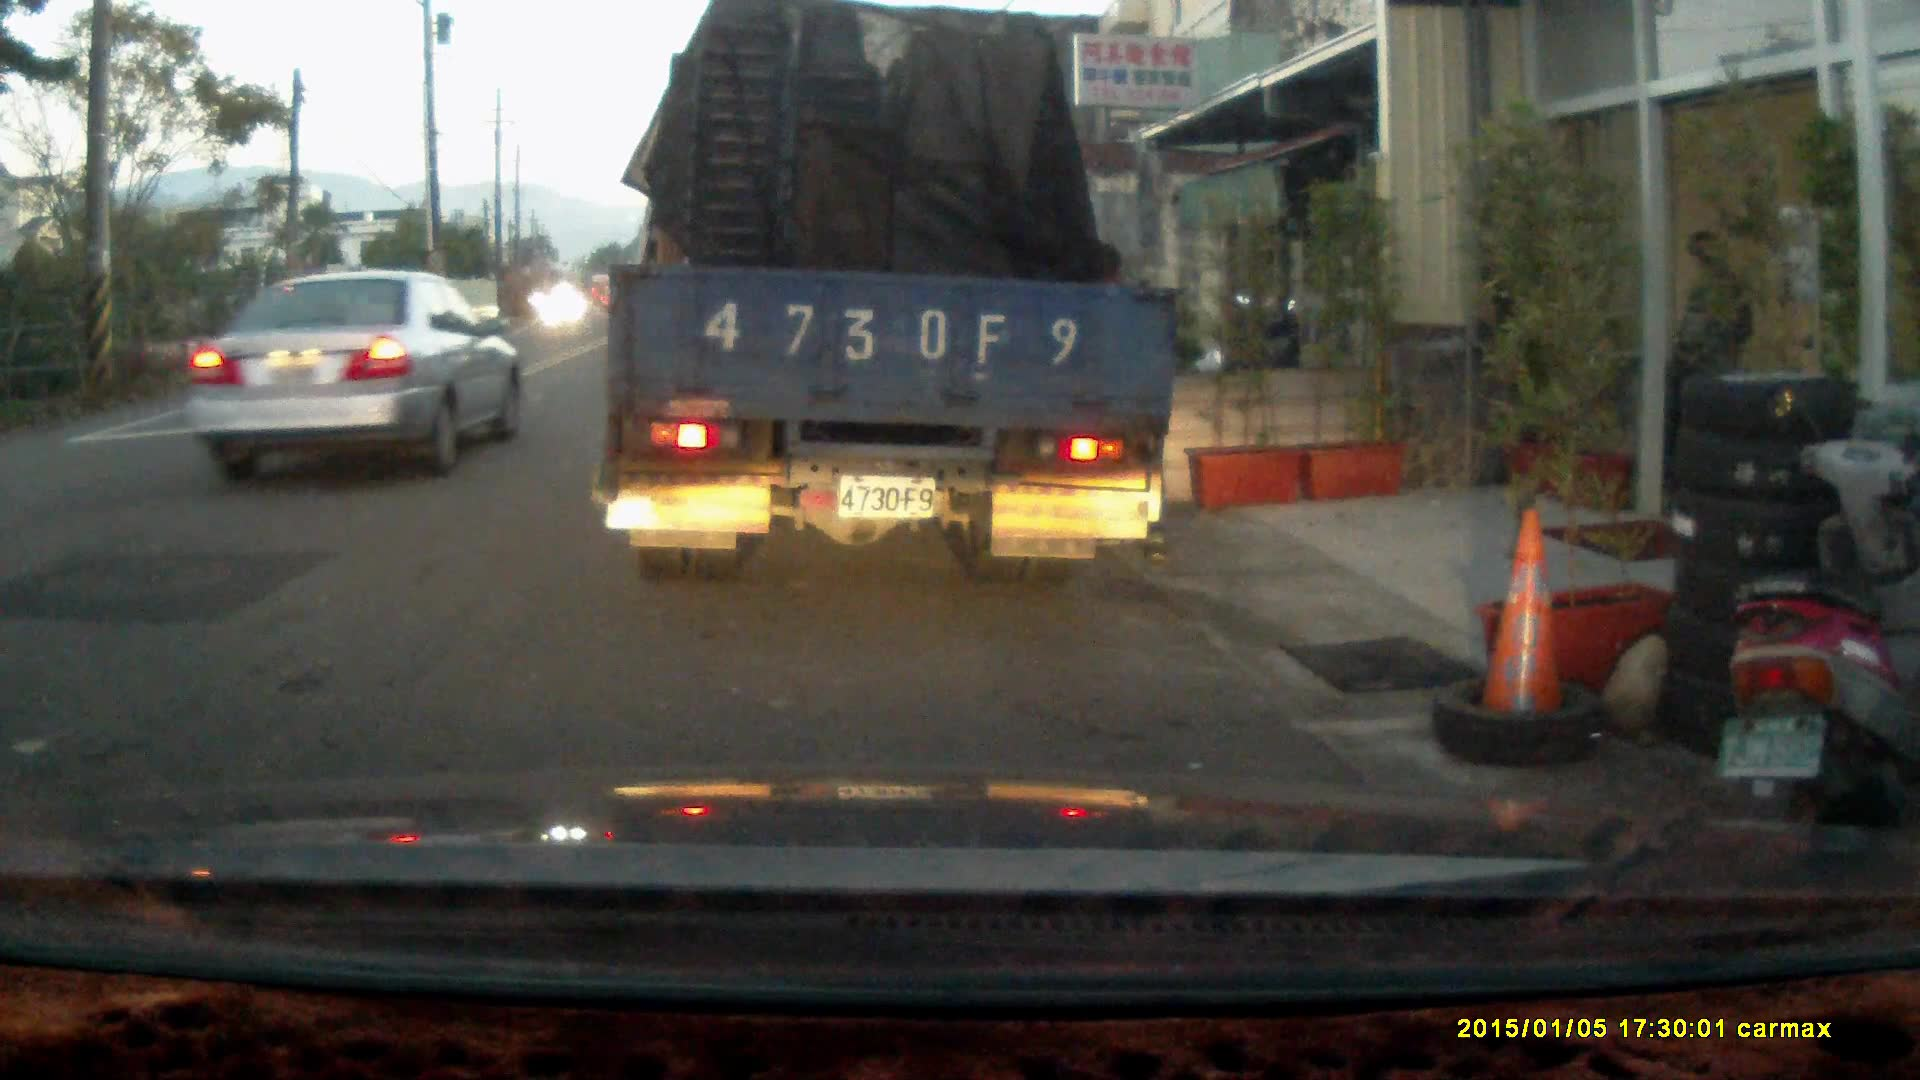pedestrian: (1671, 226, 1759, 476)
vehicle: (605, 23, 1188, 572), (189, 269, 527, 472)
